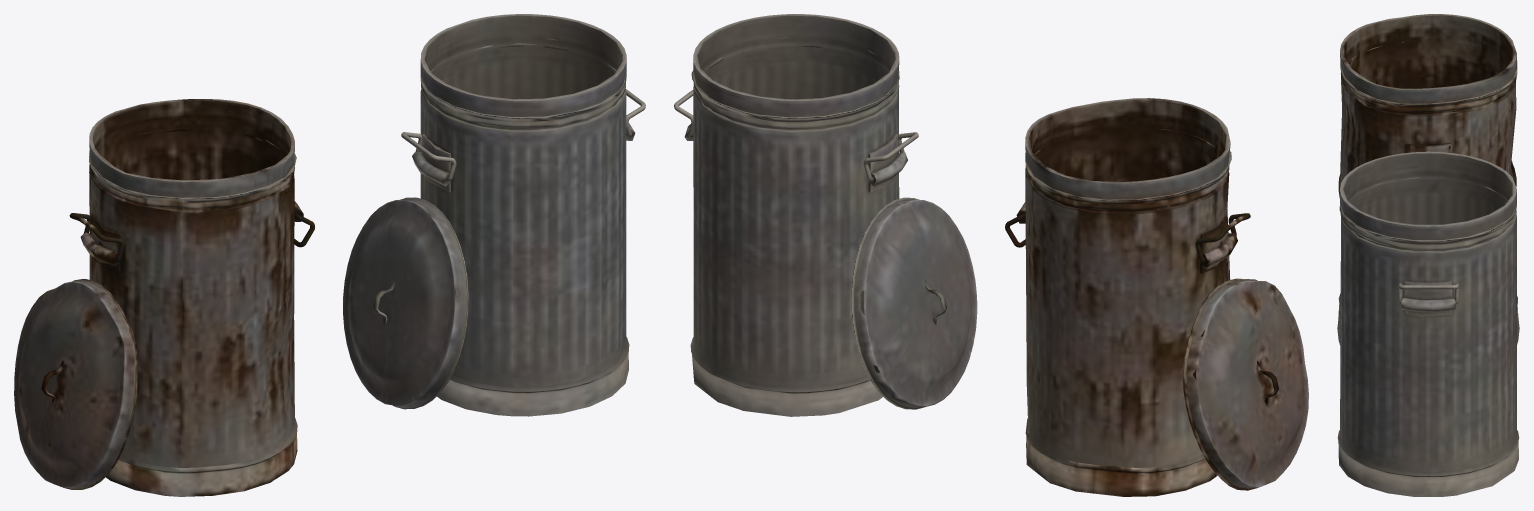
The model's file is metal_trash_can.glb.
3 views of the same model, side by side, from view 1: azimuth 30°, elevation 25°; view 2: azimuth 150°, elevation 25°; view 3: azimuth 270°, elevation 25° (orthographic). The views are drawn at different scales.
Visible parts, largest first — view 1: metal_trash_can, metal_trash_can_rust, metal_trash_can_lid, metal_trash_can_rust_lid; view 2: metal_trash_can, metal_trash_can_rust, metal_trash_can_lid, metal_trash_can_rust_lid; view 3: metal_trash_can, metal_trash_can_rust, metal_trash_can_handle_right.
Part boxes in pixels (x1,y1,x2,y2): metal_trash_can: (412,14,635,416); metal_trash_can_rust: (80,99,303,496); metal_trash_can_lid: (343,197,468,409); metal_trash_can_rust_lid: (14,279,137,489); metal_trash_can: (684,14,907,416); metal_trash_can_rust: (1016,98,1237,496); metal_trash_can_lid: (851,197,977,409); metal_trash_can_rust_lid: (1183,278,1308,490); metal_trash_can: (1337,151,1519,496); metal_trash_can_rust: (1338,14,1518,317); metal_trash_can_handle_right: (1398,283,1458,304).
Size of the model in its own units: 1.78 by 0.9062 by 0.5543.
Materials: 3 (3 with a texture image).
